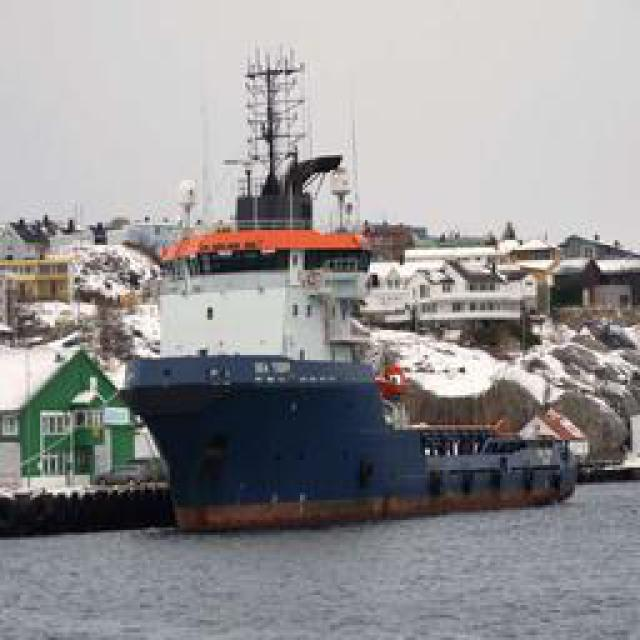Ship: (130, 345, 590, 533)
